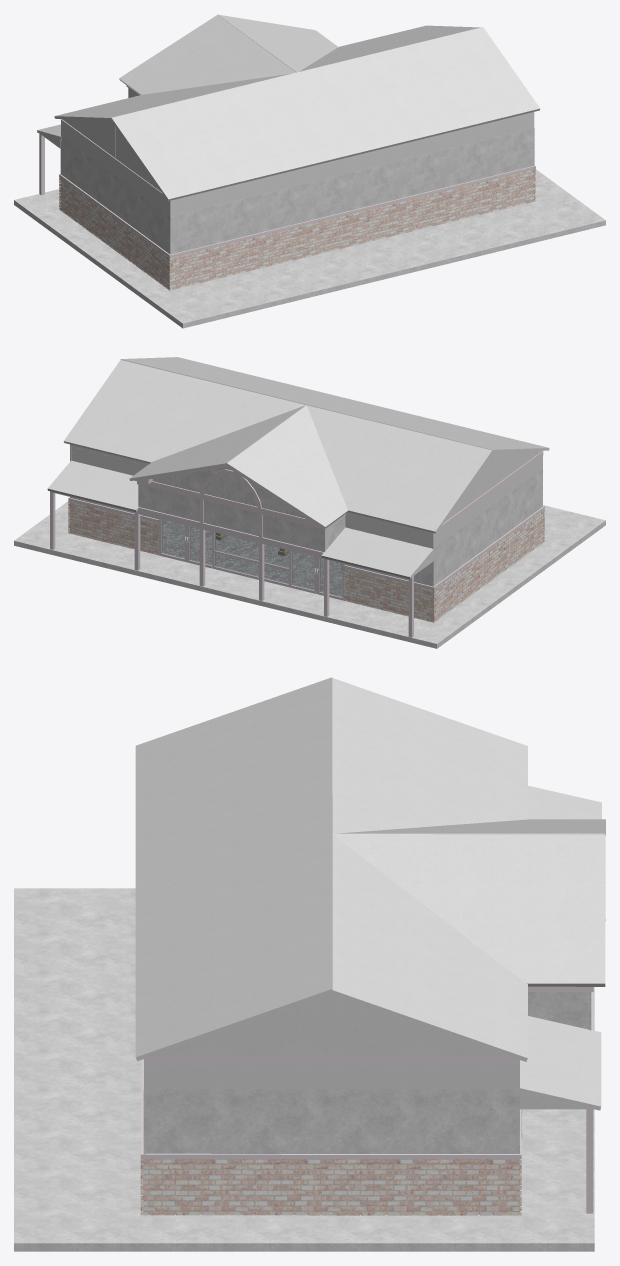
3 views of the same model, one above another, from view 1: azimuth 30°, elevation 25°; view 2: azimuth 150°, elevation 25°; view 3: azimuth 270°, elevation 25° (orthographic). The views are drawn at different scales.
Parts seen in each view (by area): view 1: shop; view 2: shop; view 3: shop.
Part boxes in pixels (x1,y1,x2,y2): shop: (14,14,605,328); shop: (14,357,605,648); shop: (14,677,605,1251).
Bounding box in the file's own units: 72.6 × 22.64 × 51.17.
Materials: 14 (6 with a texture image).
